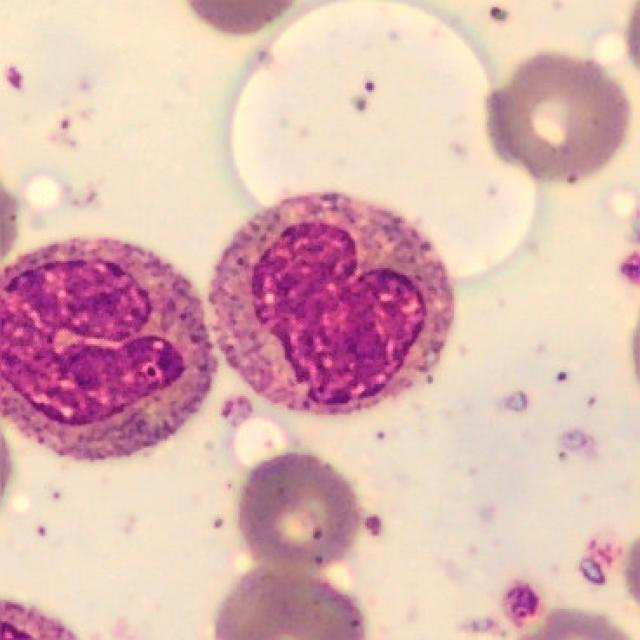Neutrofilo segmentado: (205, 192, 456, 417)
